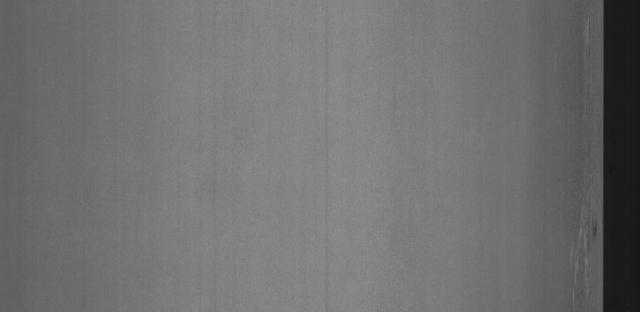silk_spot: (543, 192, 597, 299)
